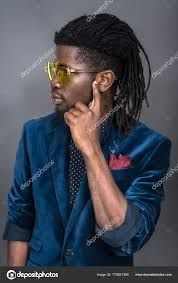no-mask: (43, 35, 116, 129)
